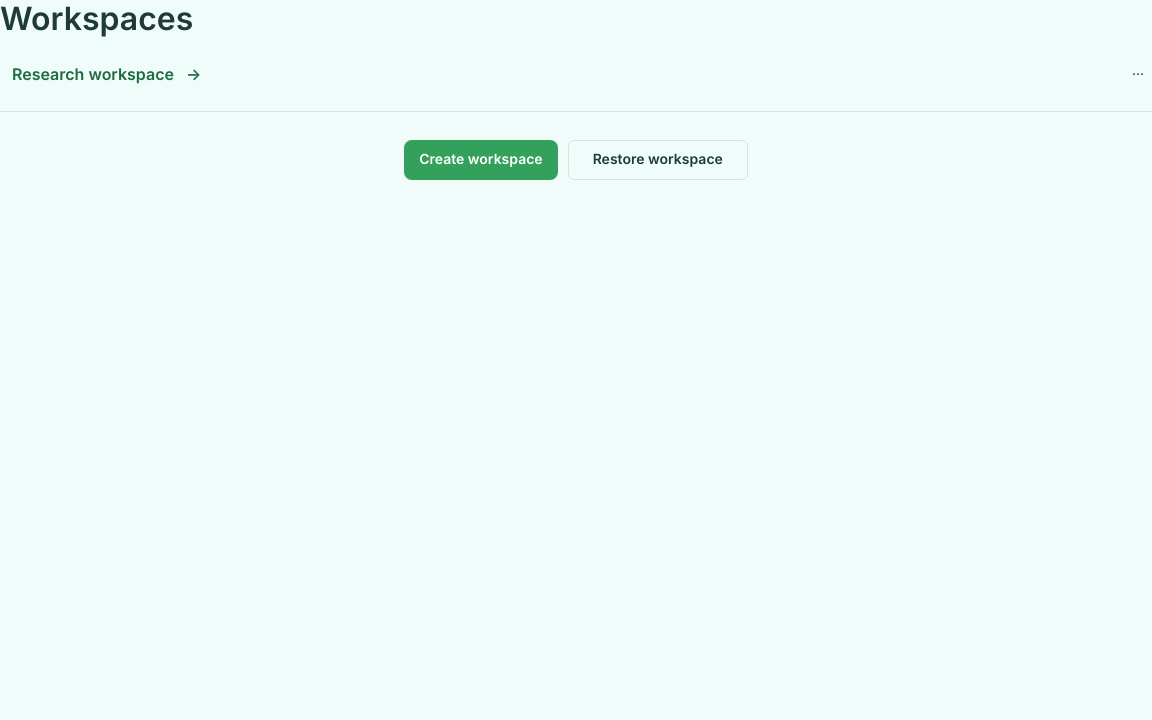
Test case: confirms archive in a dialog and cancels without a mutation
Step 1. Click the button "···" → [1138, 75], box [1124,60,1151,90]
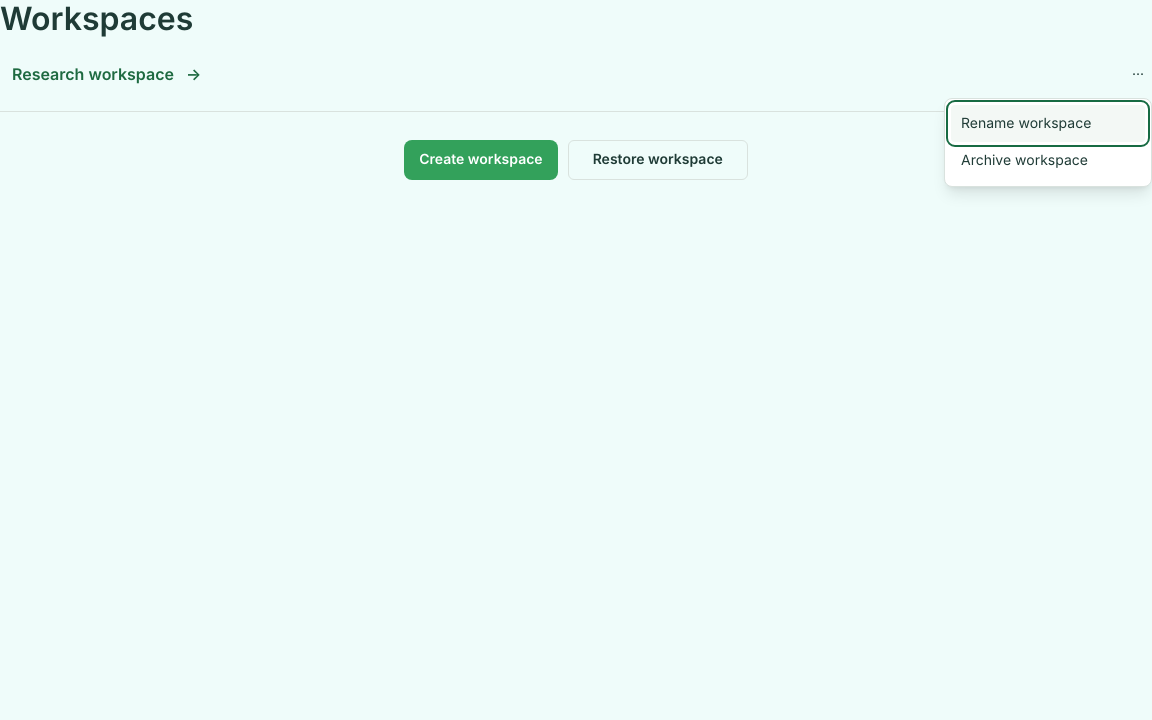
Step 2. Click the menu item "Archive workspace" → [1048, 161], box [951,142,1145,180]
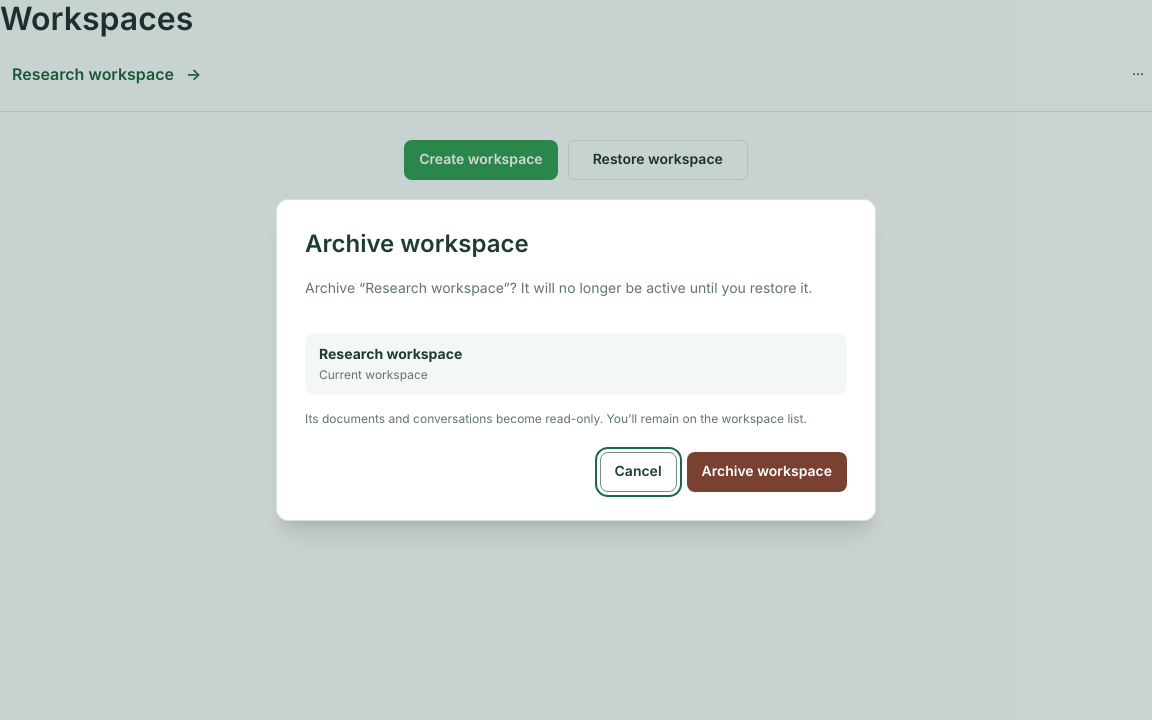
Expected: the dialog "Archive workspace" is shown, [276,199,876,521]
Step 3. Click the button "Cancel" → [638, 472], box [600,452,676,492]
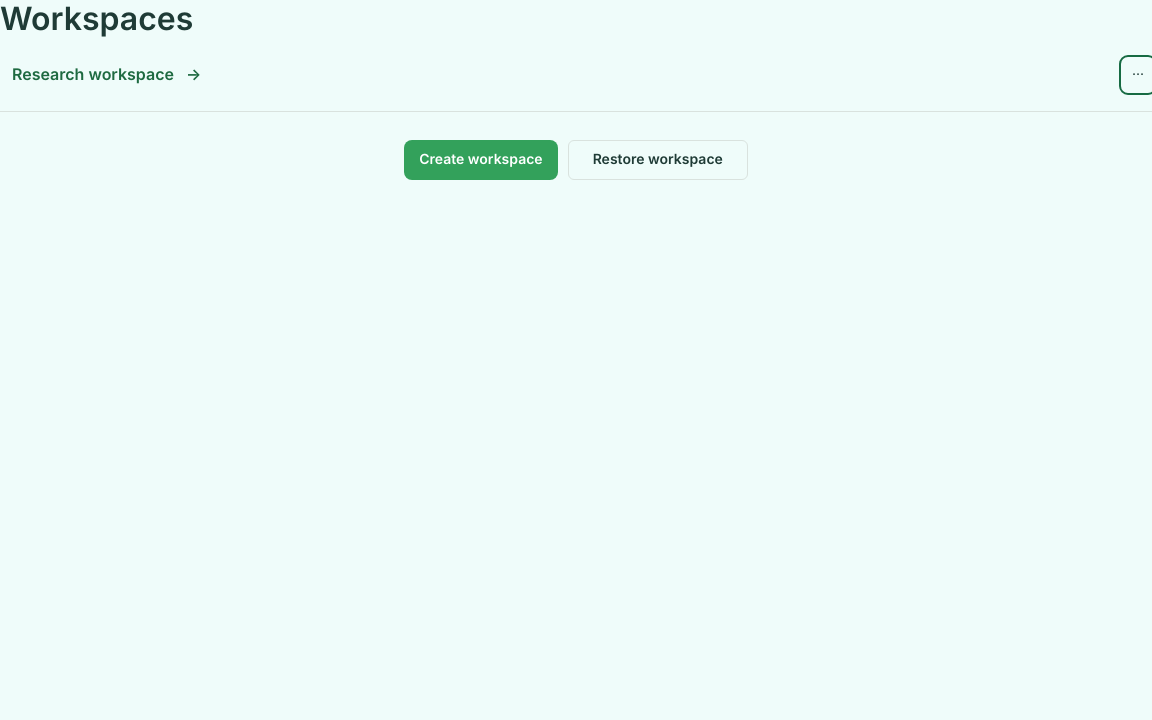
Expected: the dialog is gone
